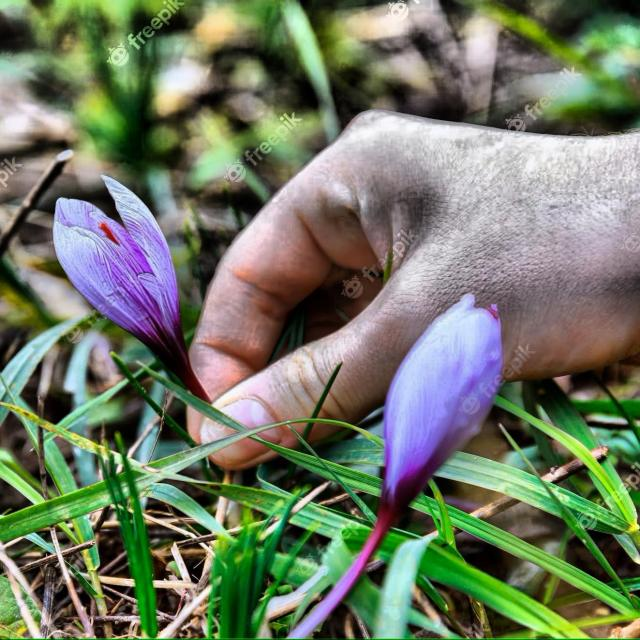Flower: (367, 290, 509, 559), (42, 167, 186, 375)
stigma: (96, 212, 120, 249)
